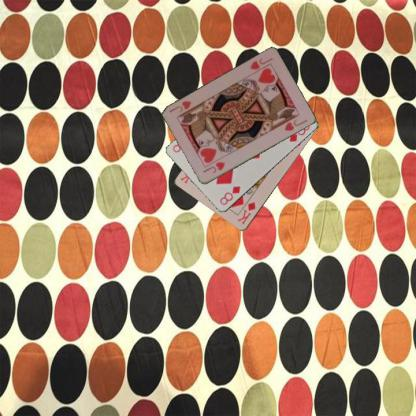8d: (217, 184, 242, 206)
Jh: (247, 55, 274, 76), (200, 160, 226, 174)
Kd: (235, 199, 257, 226)
